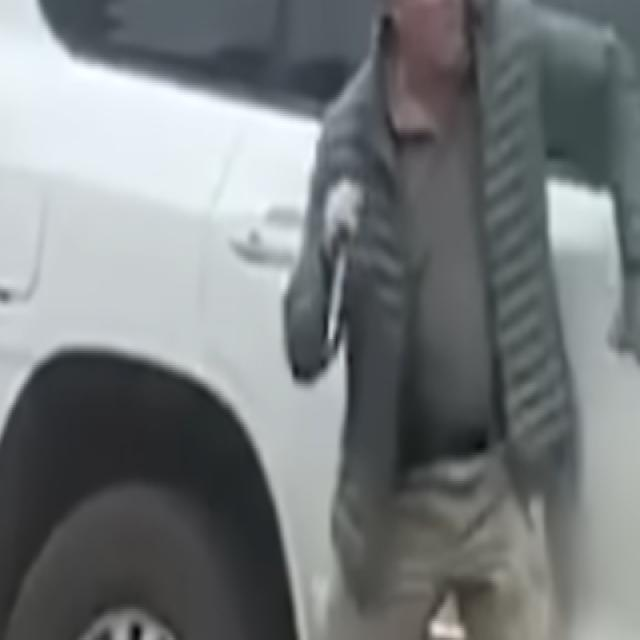Fknife: (324, 214, 354, 367)
